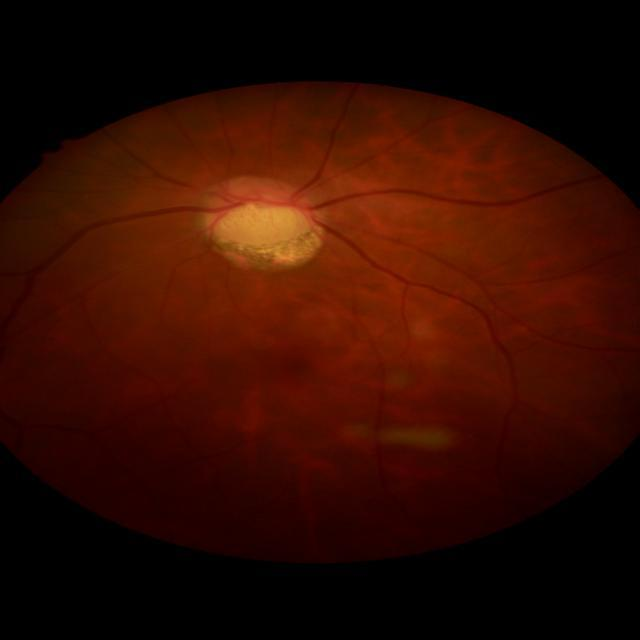cup: (212, 192, 316, 234)
disk: (199, 172, 322, 248)
